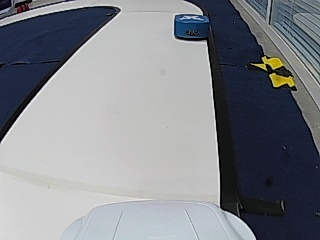prop: (174, 15, 210, 41)
